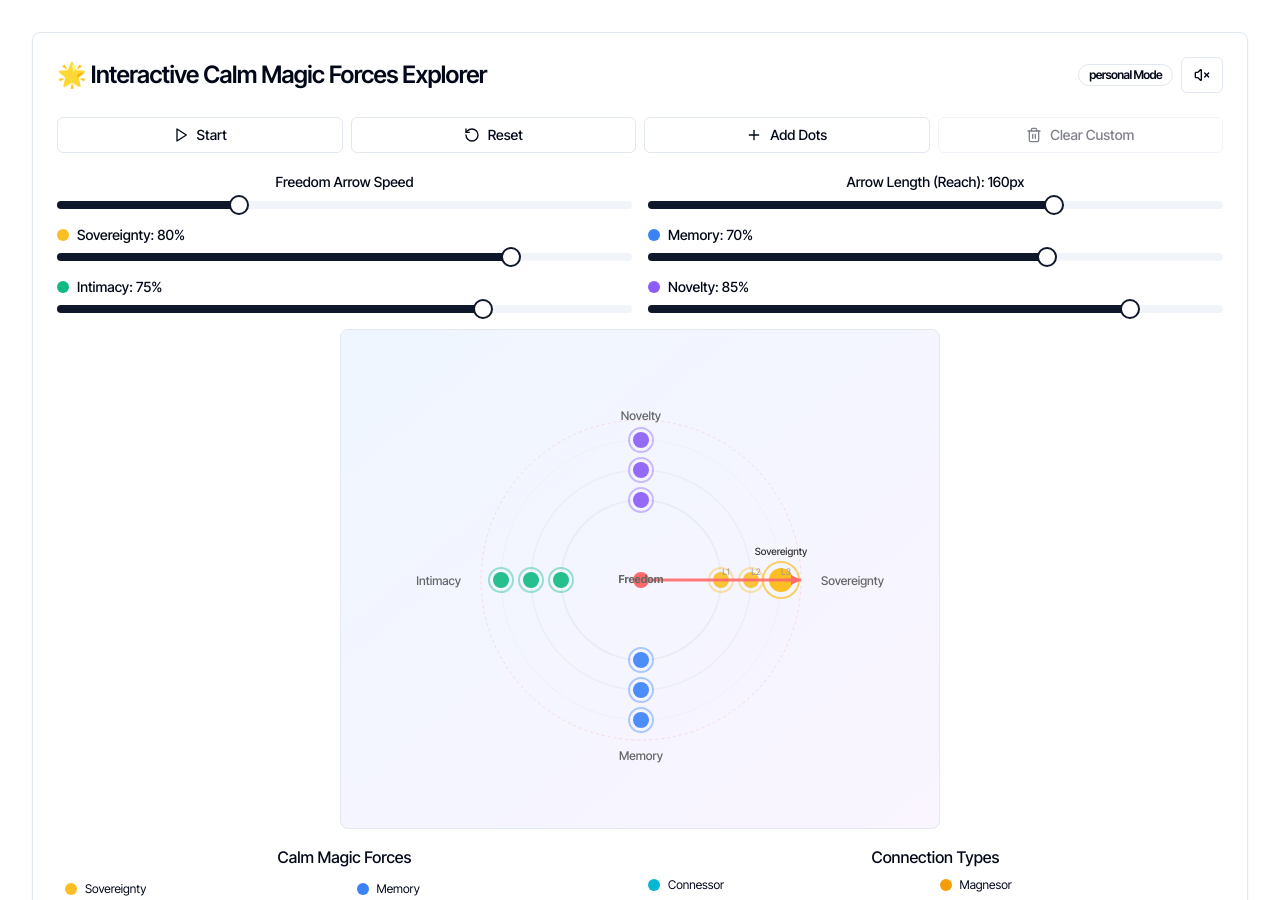
ExperienceDotsVisualization keyboard navigation › Enter/click on a hotspot updates the info panel
Click the button named "Novelty".
click(602, 413)  # box [562,401,642,425]
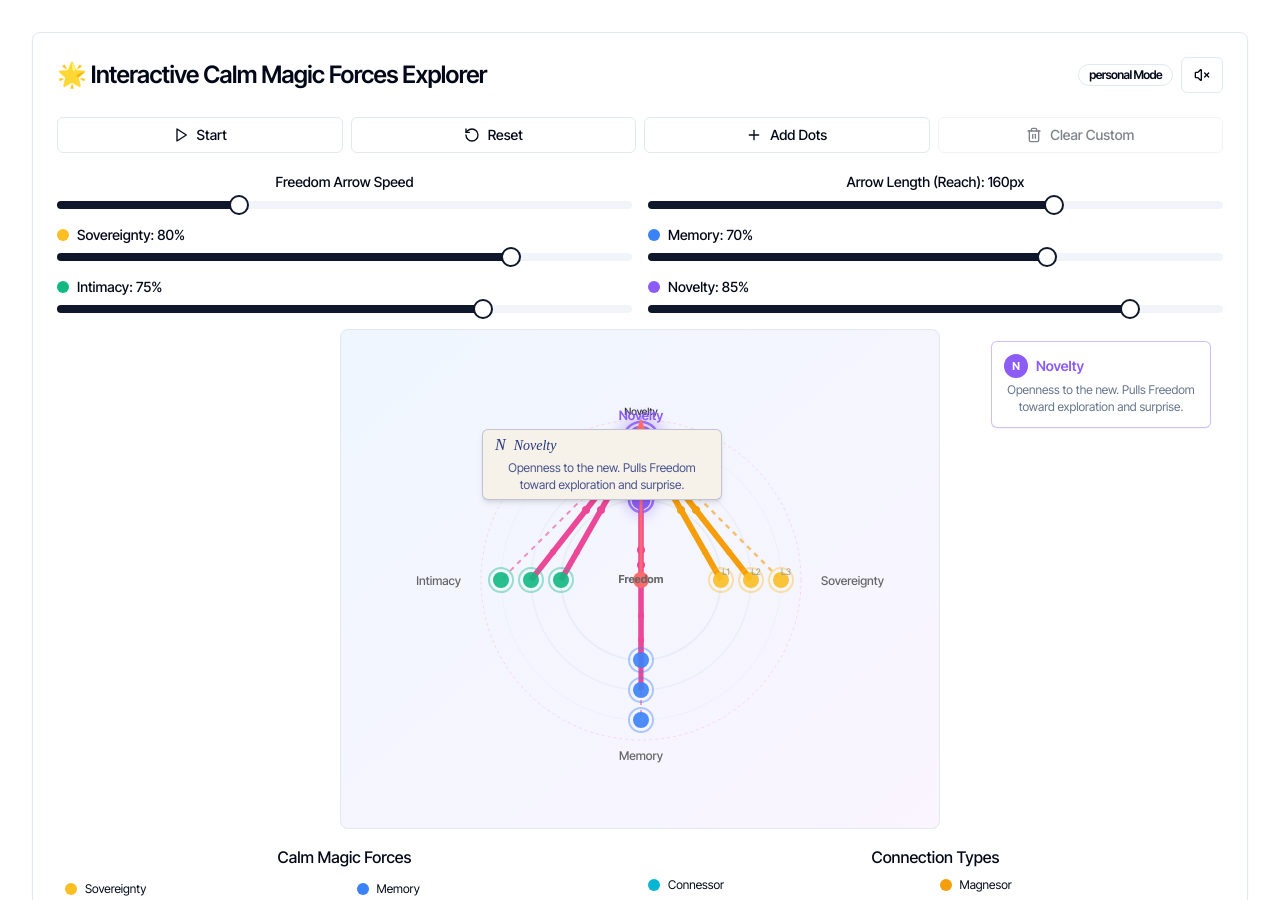
Check: the message shows "Novelty", box [1036,357,1084,374]
